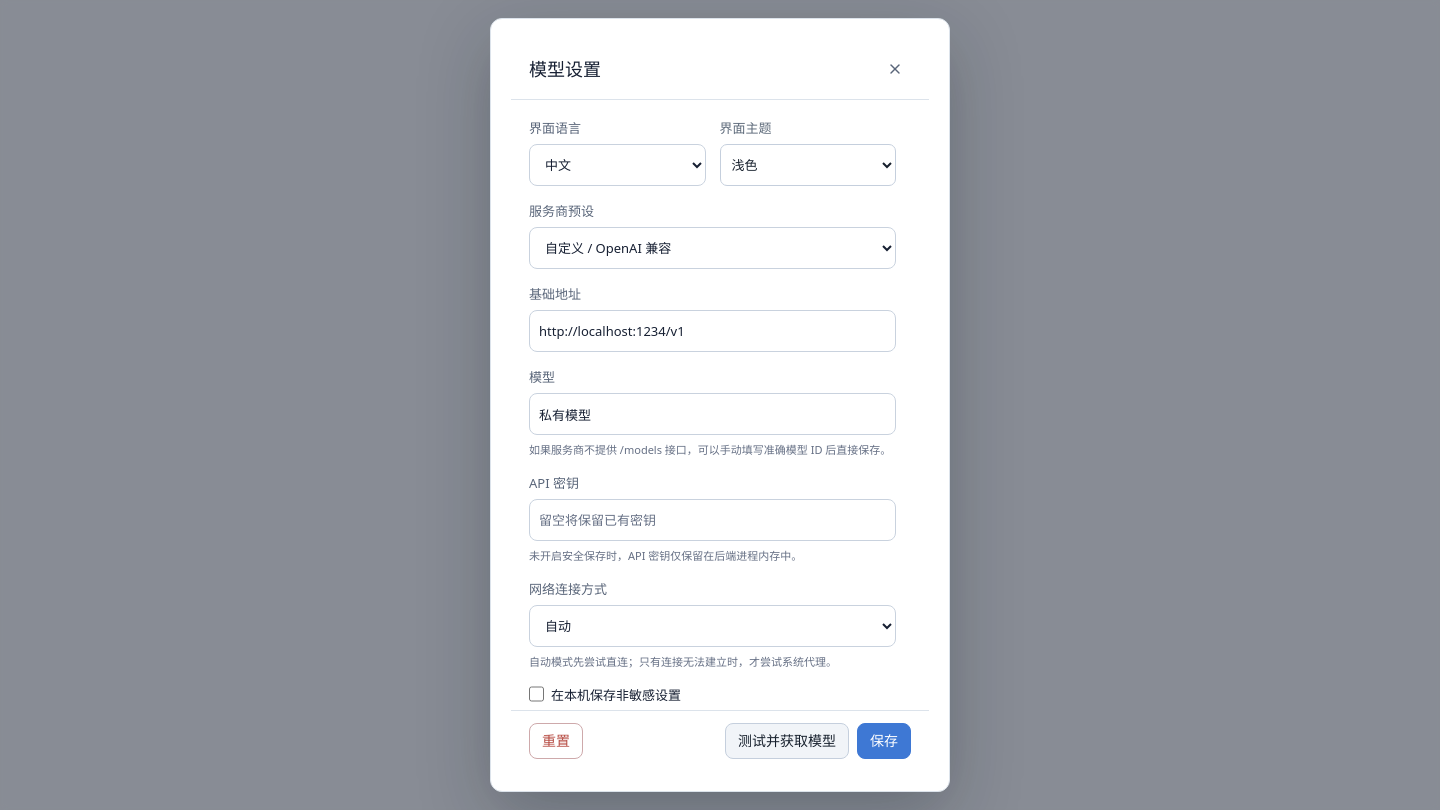
Test: model settings › renders bilingual chrome and an accessible SVG close action without ever rendering the stored secret
Expected: the field showing "私有模型" is shown, [529,393,896,435]
Expected: the icon is shown, [887,61,903,77]
Select "English" in the dropdown showing "中文". click: (617, 165)
box: [529,144,706,186]
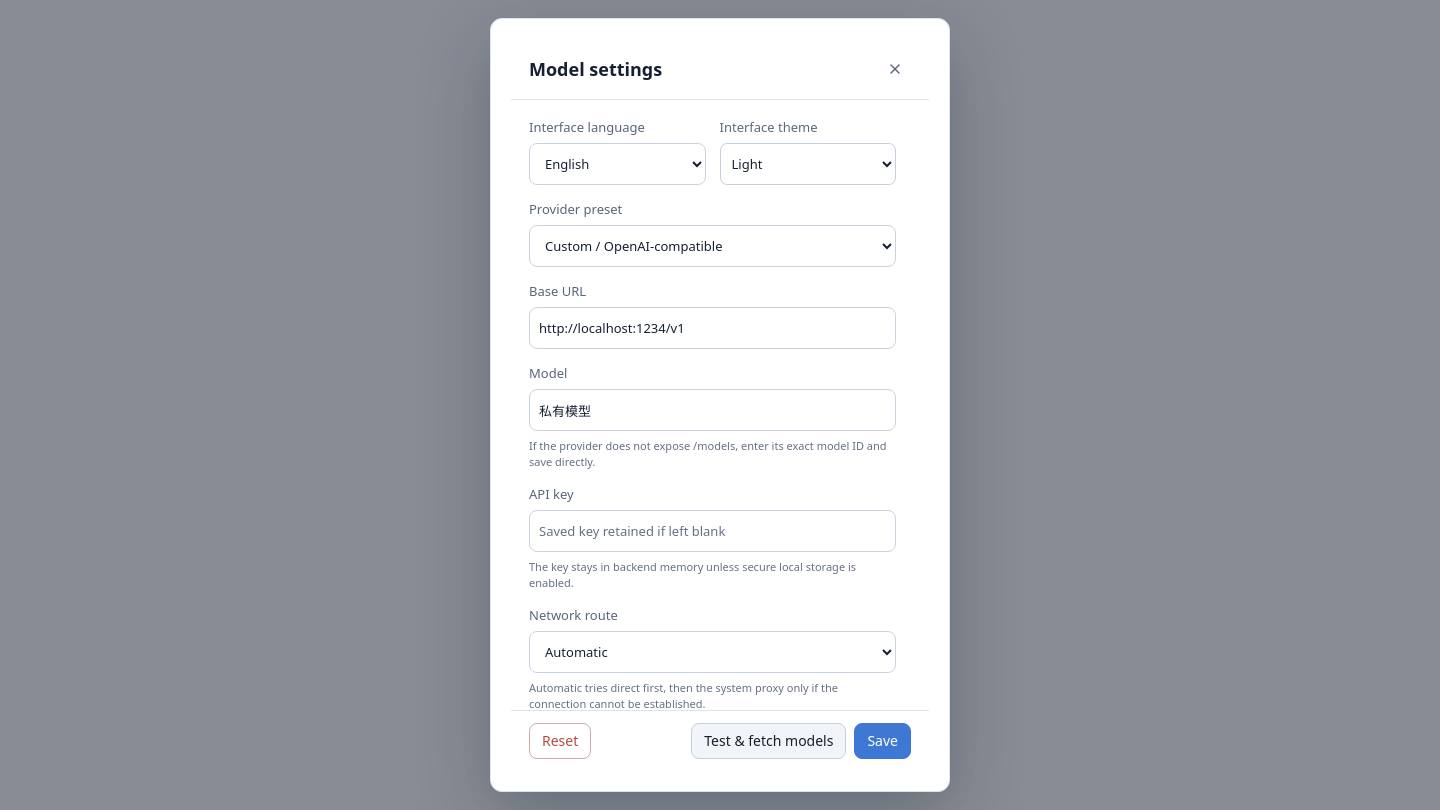
Expected: the field showing "私有模型" is shown, [529,389,896,431]
Expected: the heading "Model settings" is shown, [529,58,662,80]
